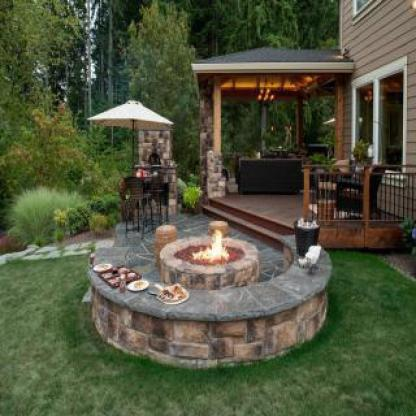fire: (194, 226, 228, 264)
